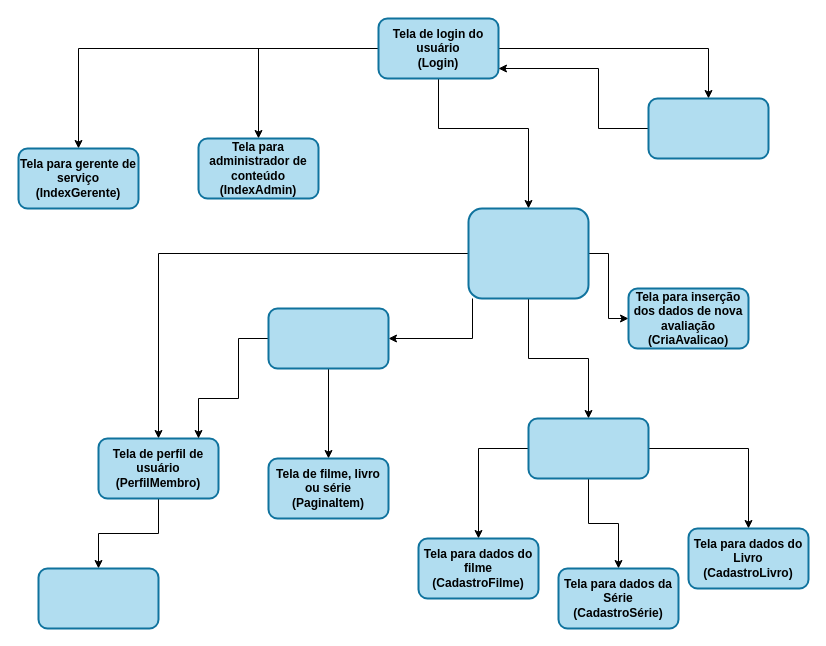
Some shapes in this 826 by 646 pixel diagram are drawn without their labels. The shapes that lost their labels are listed below. From the top down, each one's centre as x and y in pixels, then its label:
At [708,128]: "Tela de cadastro do usuário (Cadastro)".
At [528,253]: "Tela principal da aplicação para membros (IndexMembro)".
At [328,338]: "Tela para pesquisa na rede (PesquisaItem)".
At [588,448]: "Tela para seleção de item de cadastro (CadastroItem)".
At [98,598]: "Tela para alteração de seus dados cadastrais (AlterarCadastro)".
